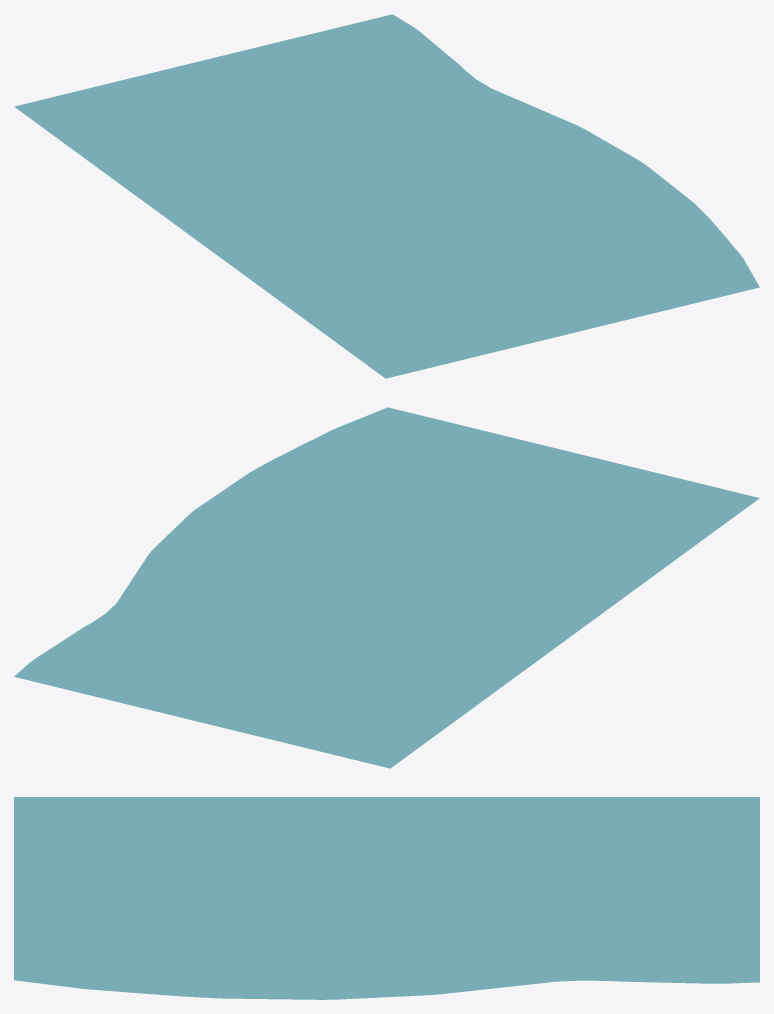
The picture shows the model from 3 angles, top to bottom: view 1: azimuth 30°, elevation 25°; view 2: azimuth 150°, elevation 25°; view 3: azimuth 270°, elevation 25°; orthographic projection.
Visible parts, largest first — view 1: city; view 2: city; view 3: city.
Boxes of the visible parts, x1=… form: city: x1=14, y1=14, x2=759, y2=378; city: x1=14, y1=407, x2=759, y2=768; city: x1=14, y1=797, x2=759, y2=999.
Size of the model in its own units: 322 by 0 by 500.
